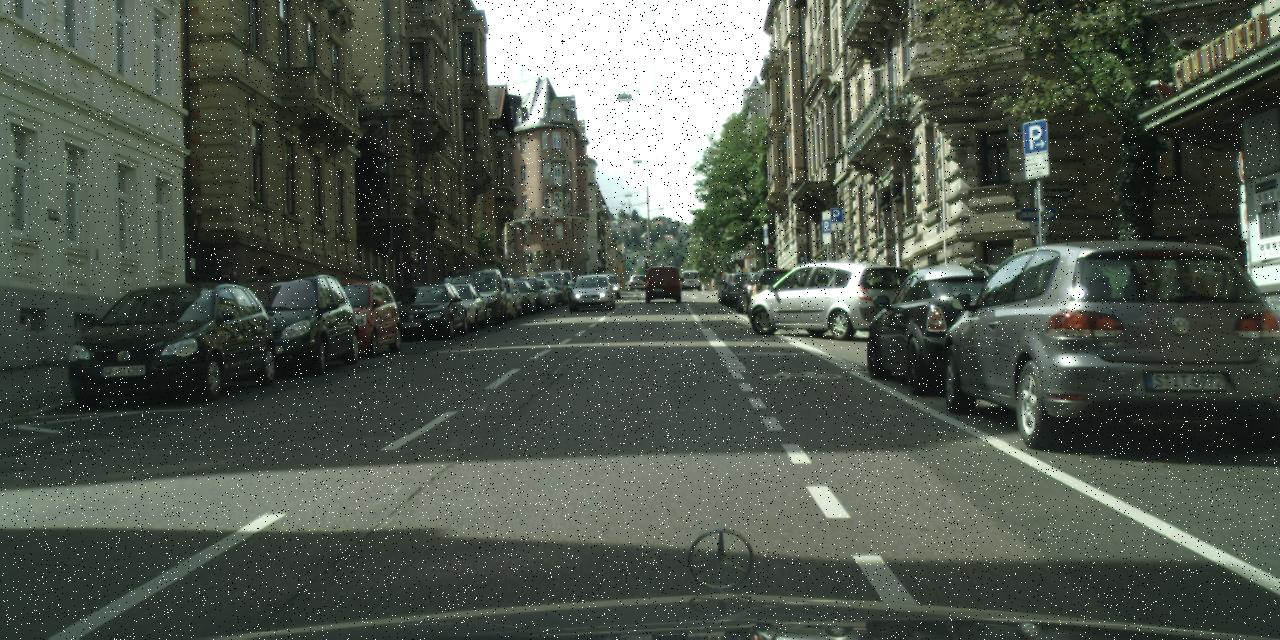ped: (215, 268, 244, 340), (442, 270, 456, 307), (732, 262, 742, 286)
